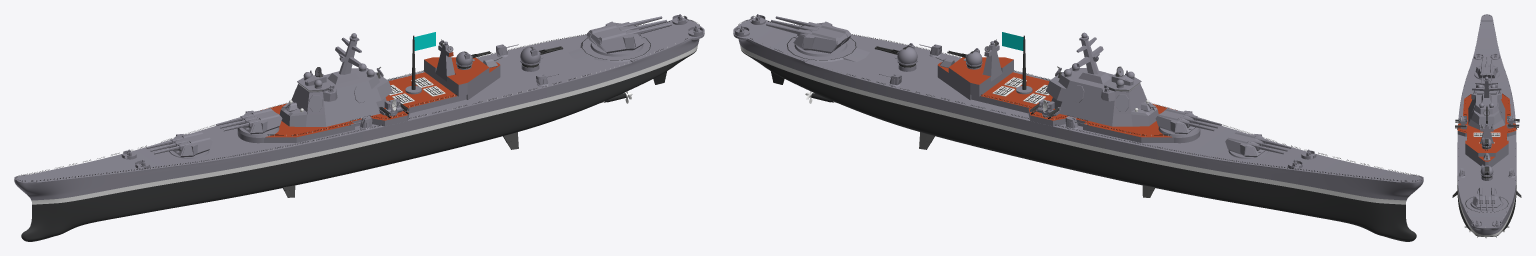
Rendered from big1.fbx.
3 views of the same model, side by side, from view 1: azimuth 30°, elevation 25°; view 2: azimuth 150°, elevation 25°; view 3: azimuth 270°, elevation 25° (orthographic). The views are drawn at different scales.
Parts seen in each view (by area): view 1: Cube, Cube.001, Cube.002, Railgun Tripple Turret.002, Railgun Tripple Turret, Railgun Tripple Turret.001, Cylinder.006, AK-150.002, Railing.002, Kashtan.001; view 2: Cube, Cube.001, Cube.002, Railgun Tripple Turret.002, Railgun Tripple Turret, Railgun Tripple Turret.001, Cylinder.006, AK-150.002, Railing.002; view 3: Cube, Cube.001, Cube.002, Railgun Tripple Turret.002, Railgun Tripple Turret.001, Cylinder.006, AK-150.002, Kashtan.001, Kashtan.002, AK-150.001, Mk45.003, VLS_1.002 (+3 smaller).
Boxes of the visible parts, left/top/right/bottom form: Cube: left=14, top=19, right=704, bottom=241; Cube.001: left=261, top=44, right=500, bottom=142; Cube.002: left=279, top=36, right=392, bottom=126; Railgun Tripple Turret.002: left=586, top=16, right=671, bottom=56; Railgun Tripple Turret: left=216, top=108, right=282, bottom=143; Railgun Tripple Turret.001: left=146, top=131, right=212, bottom=158; Cylinder.006: left=568, top=35, right=651, bottom=62; AK-150.002: left=520, top=46, right=563, bottom=71; Railing.002: left=15, top=124, right=382, bottom=181; Kashtan.001: left=379, top=98, right=409, bottom=118; Cube: left=733, top=19, right=1423, bottom=241; Cube.001: left=937, top=44, right=1176, bottom=142; Cube.002: left=1046, top=35, right=1158, bottom=126; Railgun Tripple Turret.002: left=766, top=16, right=851, bottom=56; Railgun Tripple Turret: left=1155, top=108, right=1221, bottom=143; Railgun Tripple Turret.001: left=1225, top=131, right=1291, bottom=158; Cylinder.006: left=786, top=35, right=869, bottom=62; AK-150.002: left=874, top=43, right=917, bottom=71; Railing.002: left=1055, top=124, right=1422, bottom=181; Cube: left=1457, top=14, right=1516, bottom=236; Cube.001: left=1457, top=93, right=1516, bottom=166; Cube.002: left=1468, top=78, right=1505, bottom=129; Railgun Tripple Turret.002: left=1470, top=187, right=1503, bottom=211; Railgun Tripple Turret.001: left=1474, top=57, right=1499, bottom=80; Cylinder.006: left=1465, top=197, right=1508, bottom=212; AK-150.002: left=1480, top=164, right=1493, bottom=180; Kashtan.001: left=1455, top=117, right=1467, bottom=129; Kashtan.002: left=1506, top=116, right=1519, bottom=128; AK-150.001: left=1481, top=137, right=1491, bottom=150; Mk45.003: left=1458, top=168, right=1515, bottom=177; VLS_1.002: left=1473, top=132, right=1500, bottom=136.
Size of the model in its own units: 429 by 78.44 by 60.67.
